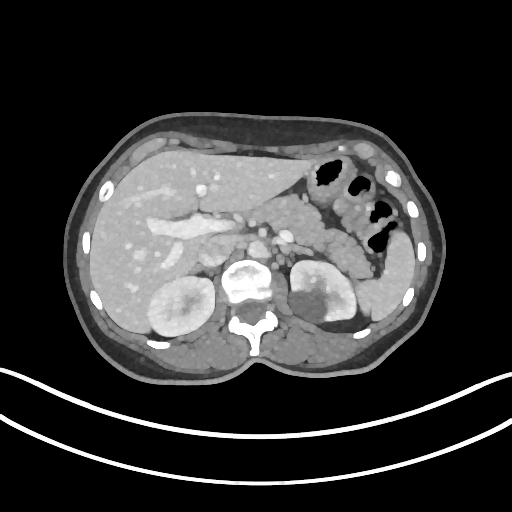Lesion: (283, 284, 332, 330)
